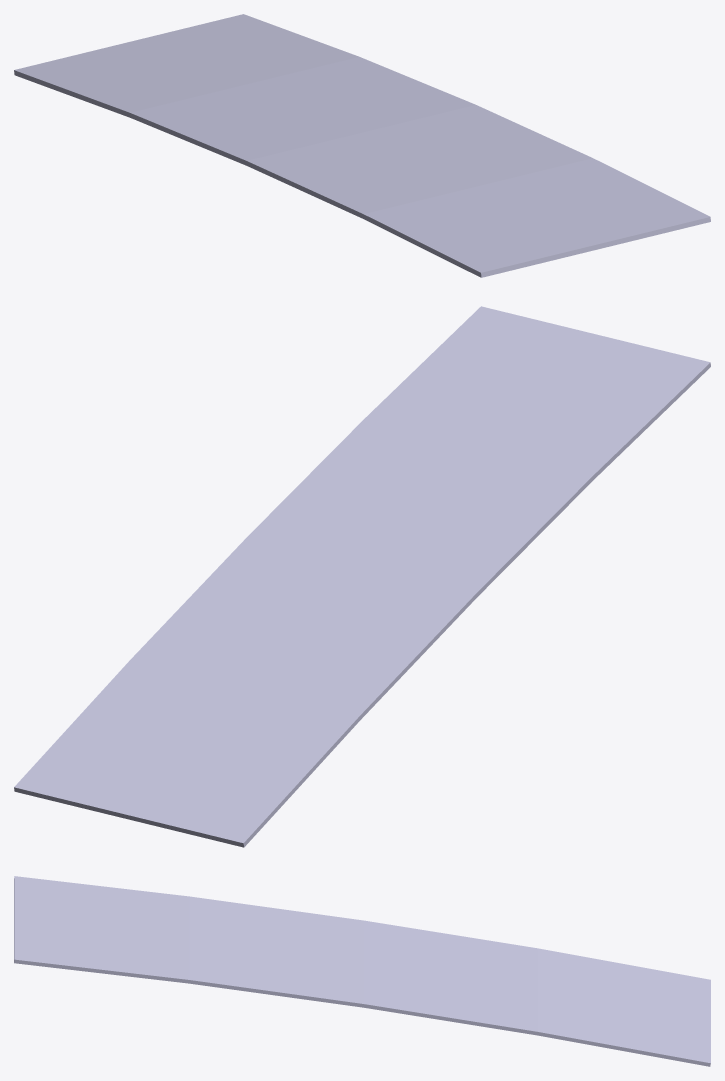
Rendered from backlid001.dae.
3 views of the same model, one above another, from view 1: azimuth 30°, elevation 25°; view 2: azimuth 150°, elevation 25°; view 3: azimuth 270°, elevation 25° (orthographic). The views are drawn at different scales.
Parts seen in each view (by area): view 1: node0; view 2: node0; view 3: node0.
Part boxes in pixels (x1,y1,x2,y2): node0: (14, 14, 710, 277); node0: (14, 306, 710, 847); node0: (14, 876, 710, 1066).
Size of the model in its own units: 0.148 by 0.5218 by 0.0886.
